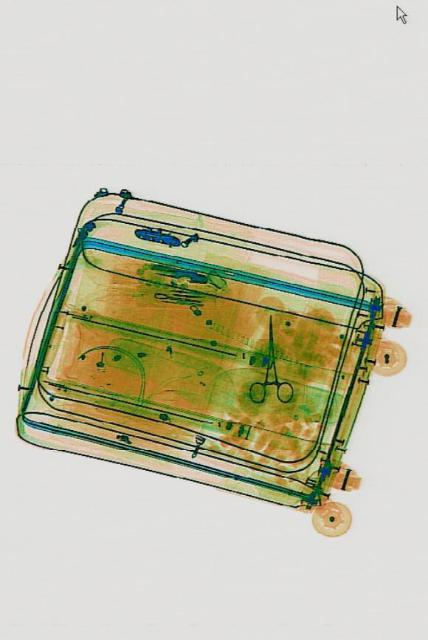Scissors: (244, 311, 290, 404)
